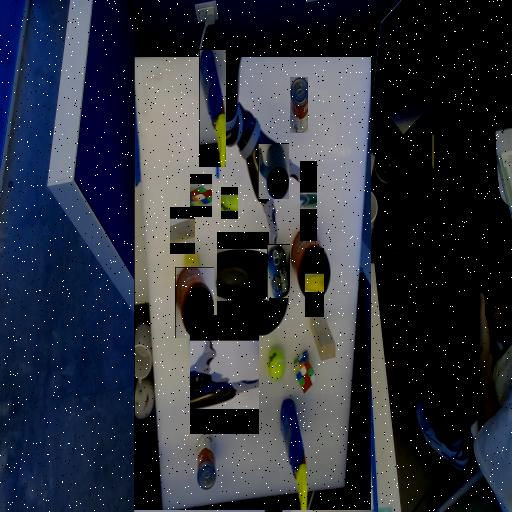bowl: (217, 250, 269, 302)
cleanser: (300, 194, 317, 209)
coffee_can: (176, 267, 214, 338)
jaco: (190, 341, 259, 410)
meat_can: (267, 245, 290, 298)
mug: (259, 143, 289, 199)
mustard_bottle: (305, 273, 324, 292)
rubik: (190, 185, 212, 207)
soup_can: (291, 78, 308, 133)
tennis_ball: (221, 195, 238, 213)
windex: (199, 50, 226, 167)
wooden_block: (170, 219, 195, 244)
workspace: (135, 57, 371, 510)
